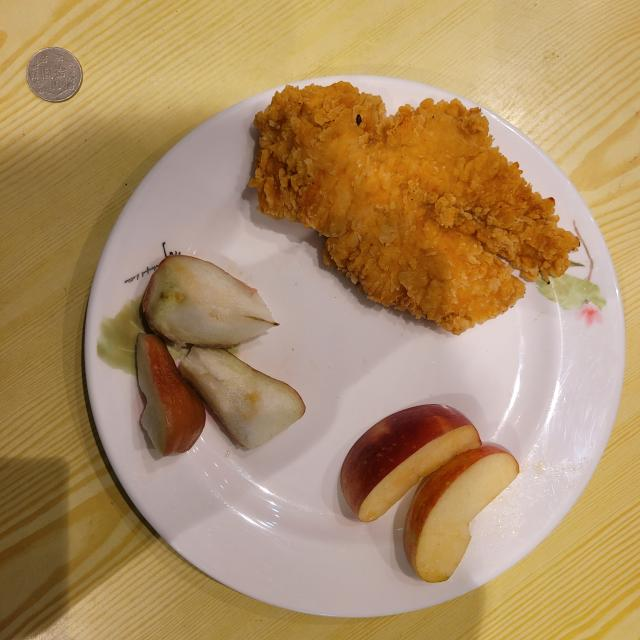apple -sliced-: (341, 404, 519, 582)
coin: (26, 48, 82, 102)
fried chicken cutlet: (250, 82, 579, 334)
